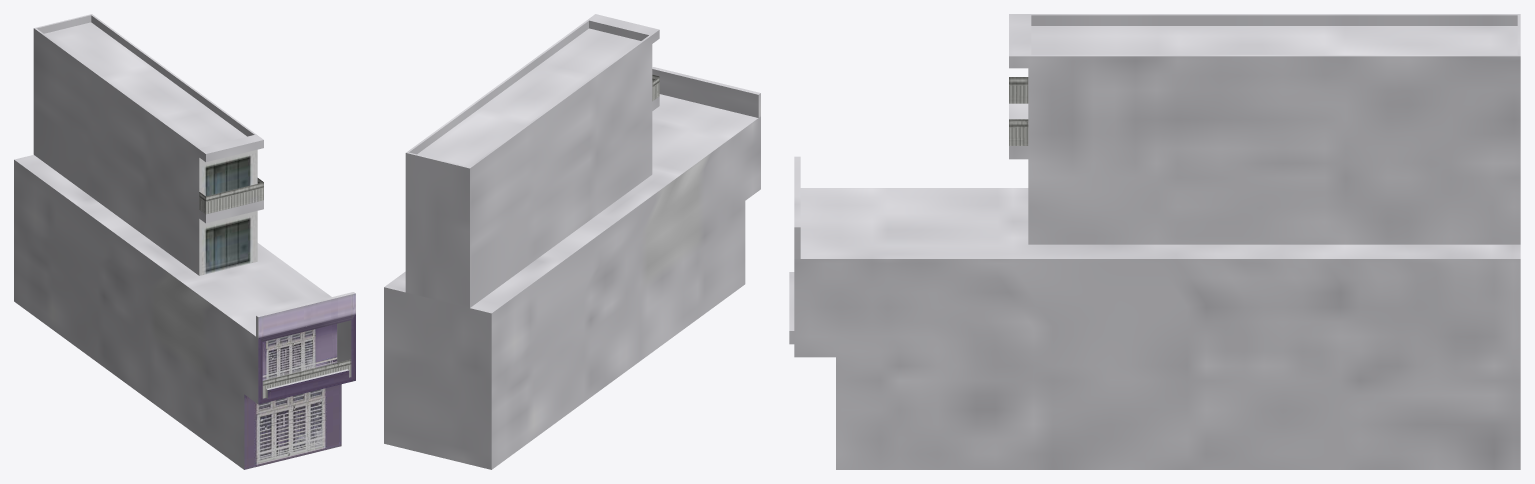
3 renders of one model, left to right at view 1: azimuth 30°, elevation 25°; view 2: azimuth 150°, elevation 25°; view 3: azimuth 270°, elevation 25°, orthographic. The views are drawn at different scales.
Visible parts, largest first — view 1: 5dad5c1d85034211c0dae0a5.001; view 2: 5dad5c1d85034211c0dae0a5.001; view 3: 5dad5c1d85034211c0dae0a5.001.
Boxes of the visible parts, left/top/right/bottom form: 5dad5c1d85034211c0dae0a5.001: left=14, top=14, right=355, bottom=469; 5dad5c1d85034211c0dae0a5.001: left=384, top=14, right=760, bottom=469; 5dad5c1d85034211c0dae0a5.001: left=789, top=14, right=1520, bottom=469.
Bounding box in the file's own units: 5.39 × 14.19 × 23.54.
1 material, 1 textured.
